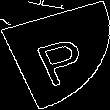P_N: (22, 24, 88, 86)
